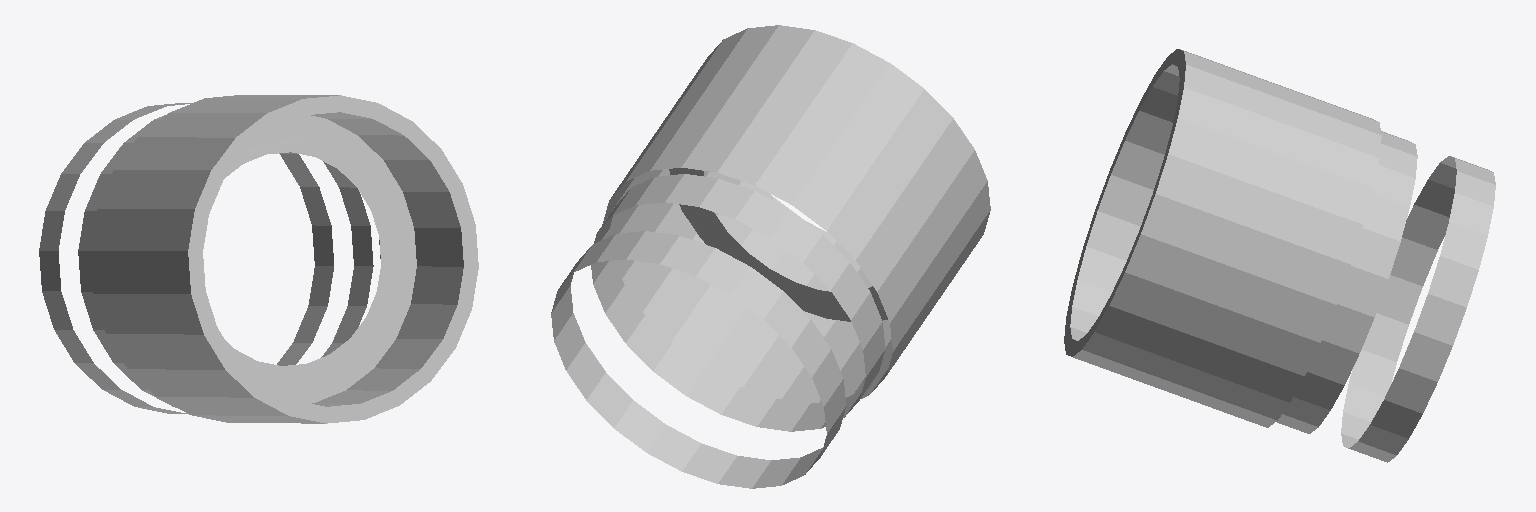
The model's file is microscope__11.obj.
3 views of the same model, side by side, from view 1: azimuth 30°, elevation 25°; view 2: azimuth 150°, elevation 25°; view 3: azimuth 270°, elevation 25° (orthographic).
Visible parts, largest first — view 1: grp11; view 2: grp11; view 3: grp11.
Part boxes in pixels (left/top/right/bottom): grp11: left=39, top=95, right=478, bottom=423; grp11: left=551, top=25, right=990, bottom=488; grp11: left=1064, top=49, right=1495, bottom=462.
Bounding box in the file's own units: 39 × 50.14 × 51.25.